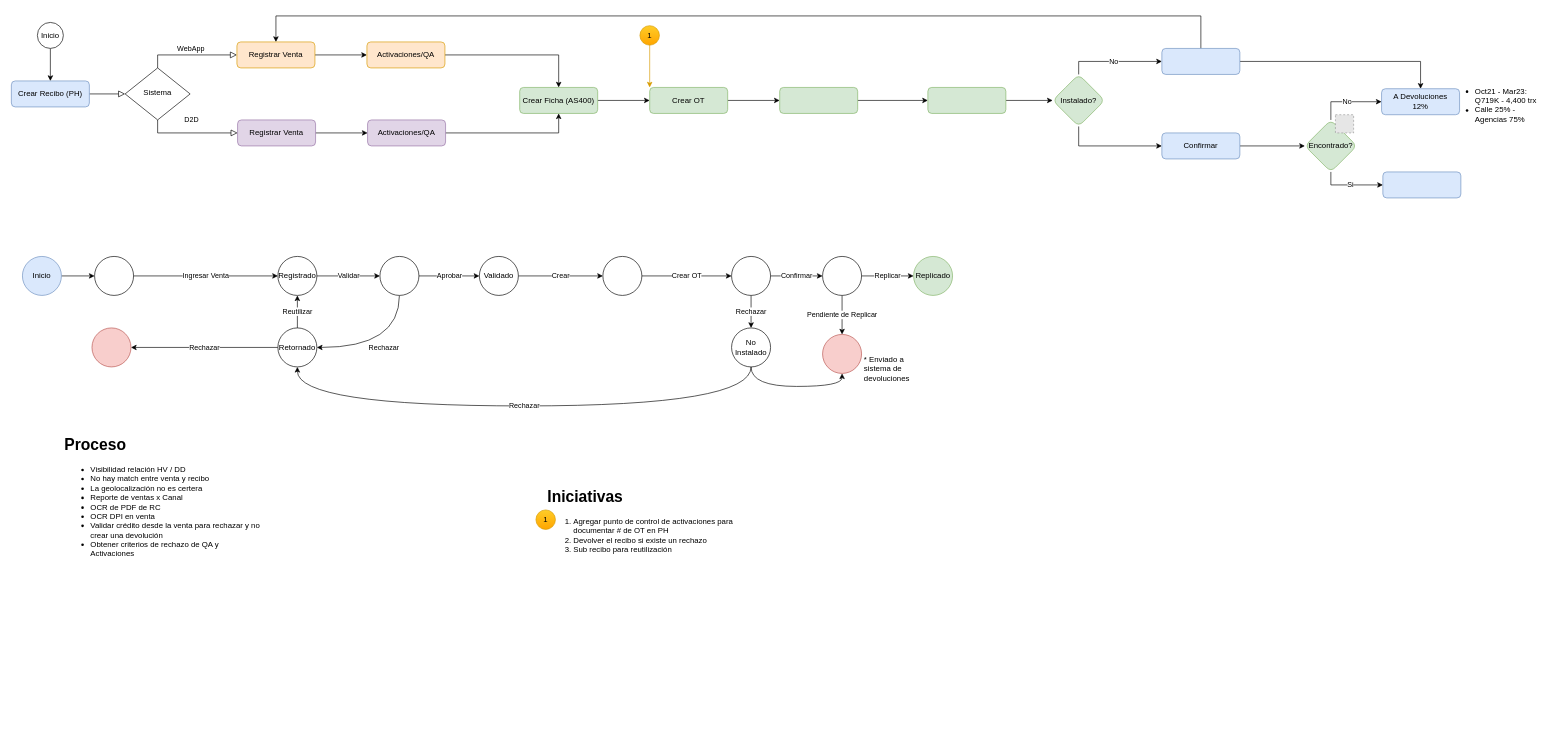
Some shapes in this 1557 by 729 pixel diagram are drawn without their labels. Grey dashed boxes stand in for pictures. The shapes that lost their labels are listed below. From the top down, each one's box as (x1, y1, x2, y2) in pixels, then its label:
(1161, 48, 1240, 74): Notificar Rechazo
(779, 87, 858, 113): Despacho de OT
(927, 87, 1006, 113): Intalación
(1382, 171, 1461, 198): Replicar Pago AS400 88%
(94, 256, 134, 295): Pagado
(379, 256, 419, 295): En Proceso
(602, 256, 642, 295): Con Ficha
(731, 256, 771, 295): Con OT
(822, 256, 862, 295): Instalado
(91, 327, 131, 367): Rechazado
(822, 334, 862, 373): Devuelto
